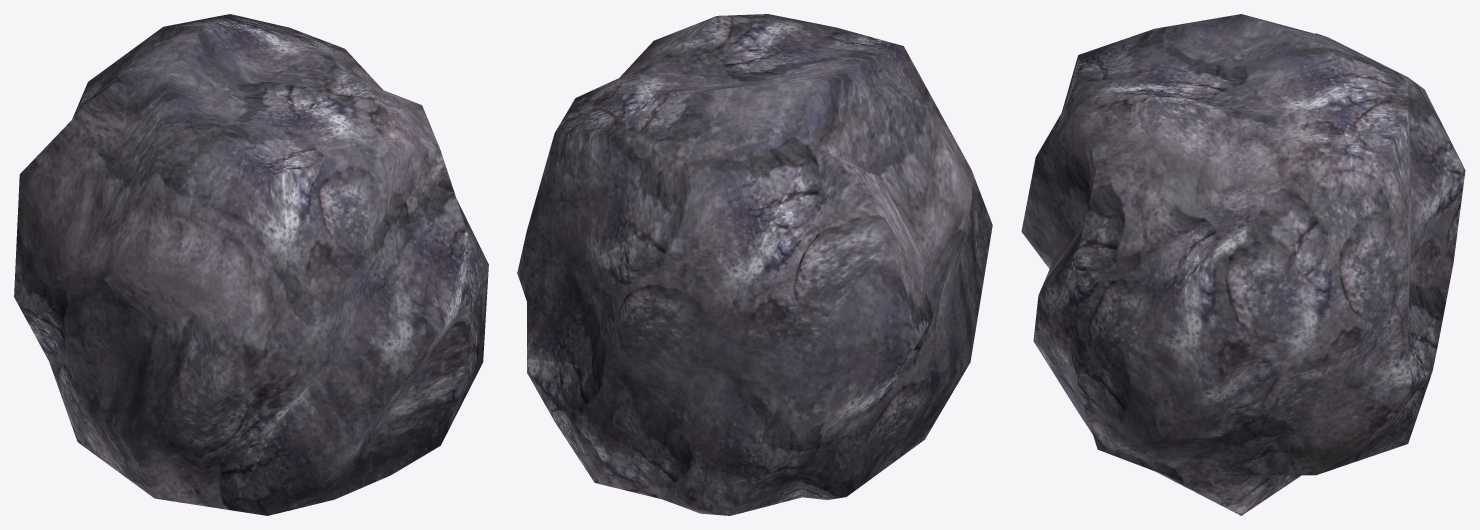
Rendered from Meteor3.fbx.
3 renders of one model, left to right at view 1: azimuth 30°, elevation 25°; view 2: azimuth 150°, elevation 25°; view 3: azimuth 270°, elevation 25°, orthographic. The views are drawn at different scales.
Visible parts, largest first — view 1: pCube3; view 2: pCube3; view 3: pCube3.
Part boxes in pixels (x1,y1,x2,y2): pCube3: [14, 14, 488, 515]; pCube3: [517, 14, 992, 515]; pCube3: [1021, 14, 1465, 515].
Size of the model in its own units: 147 by 151 by 143.
Materials: 1 (1 with a texture image).
